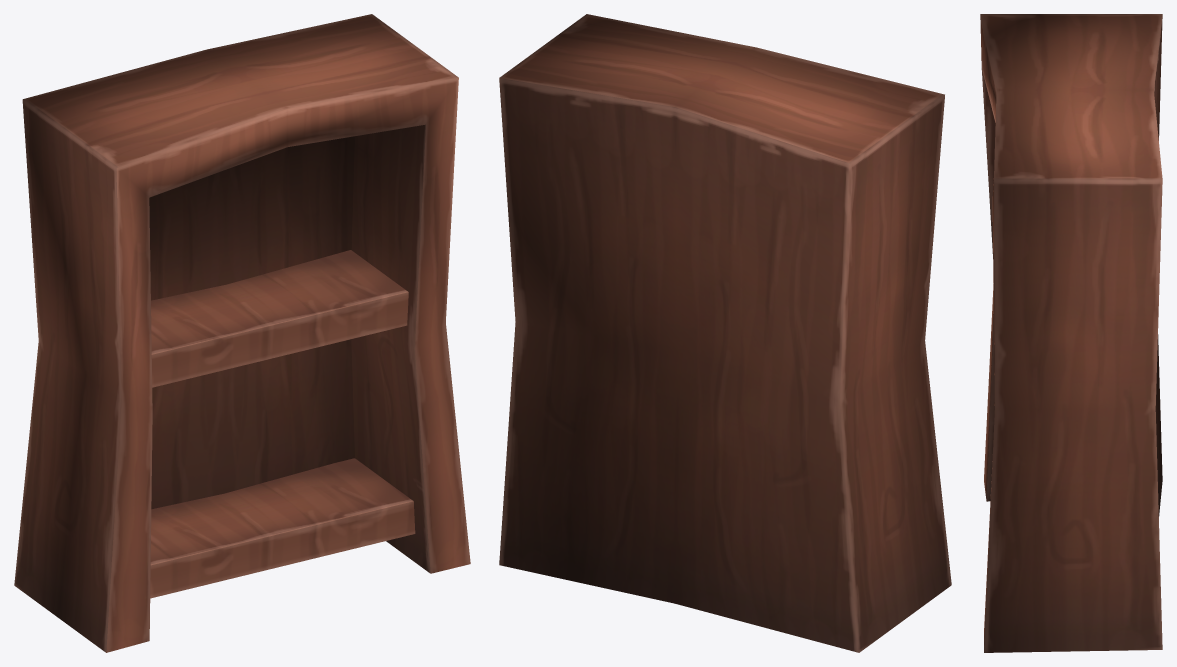
File: cabinet.fbx
3 views of the same model, side by side, from view 1: azimuth 30°, elevation 25°; view 2: azimuth 150°, elevation 25°; view 3: azimuth 270°, elevation 25° (orthographic). The views are drawn at different scales.
Visible parts, largest first — view 1: cabinetMesh; view 2: cabinetMesh; view 3: cabinetMesh.
Part boxes in pixels (x1,y1,x2,y2): cabinetMesh: (14, 14, 470, 652); cabinetMesh: (499, 14, 951, 652); cabinetMesh: (980, 14, 1162, 652).
Size of the model in its own units: 3.21 by 4.15 by 1.43.
1 material, 1 textured.
